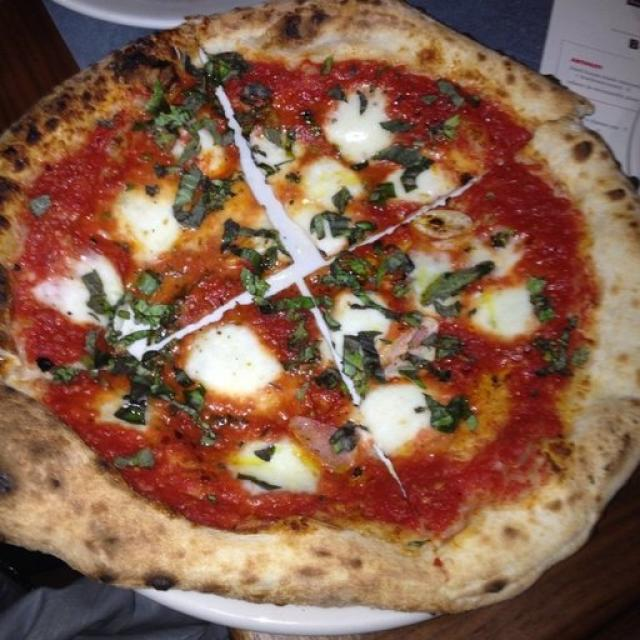Basil: (44, 339, 192, 415), (154, 84, 235, 215), (307, 212, 418, 290), (121, 355, 196, 425), (531, 275, 578, 379), (388, 111, 460, 173), (245, 83, 310, 145), (277, 298, 332, 360), (427, 259, 493, 304), (342, 334, 387, 384), (430, 388, 472, 430), (235, 467, 285, 498), (324, 422, 366, 457), (428, 81, 481, 106), (114, 446, 149, 470), (253, 443, 279, 464)
Cheese: (193, 326, 280, 392), (42, 256, 114, 327), (117, 195, 177, 254), (330, 98, 384, 158), (370, 389, 423, 446), (476, 288, 536, 335), (300, 161, 362, 201), (328, 295, 393, 330), (388, 170, 457, 200)
Pizza: (0, 0, 640, 616)
